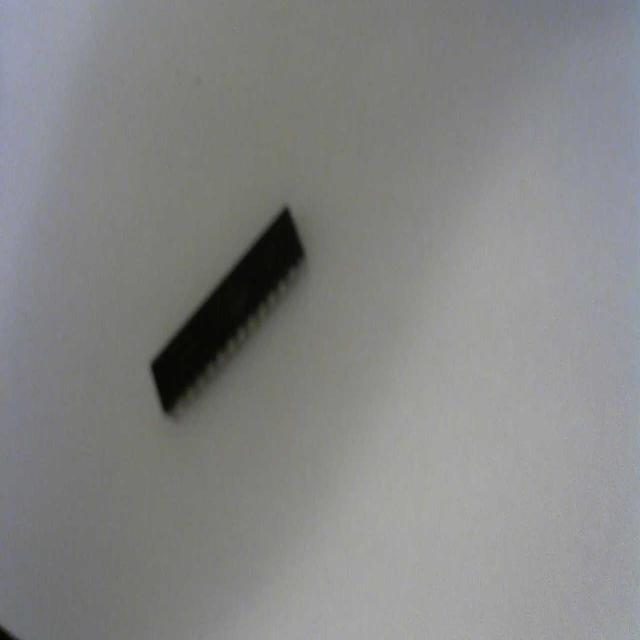atmega: (147, 200, 307, 420)
